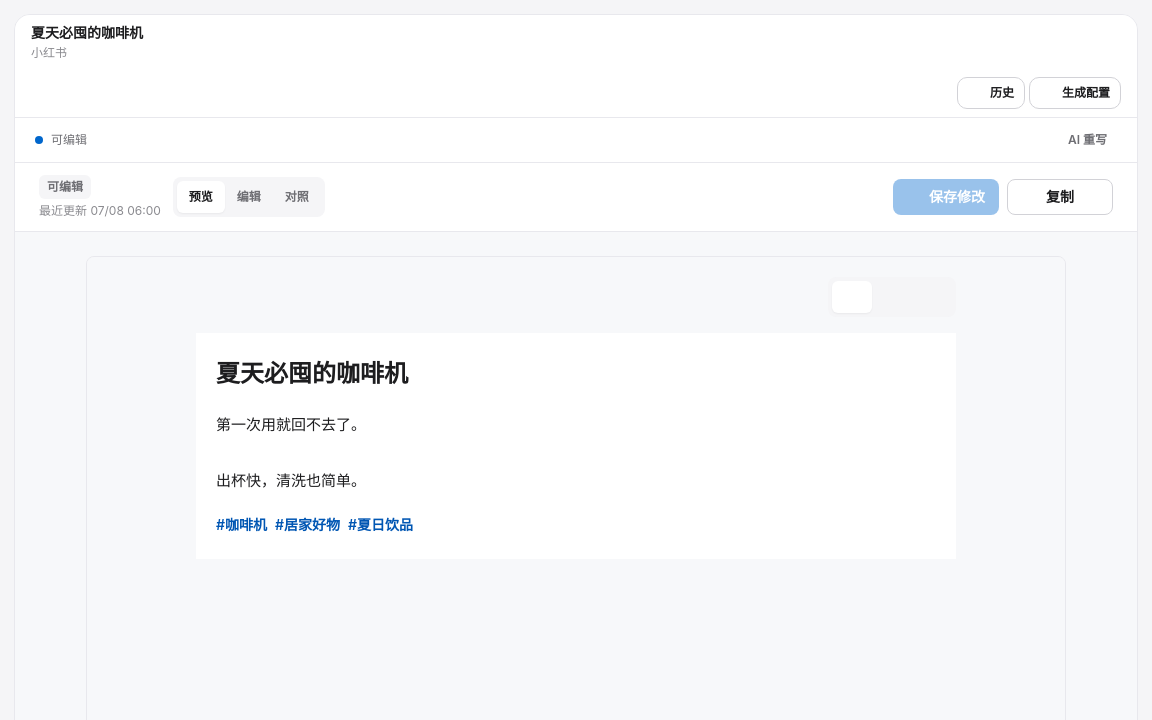
Scenario: 完成态按平台给不同的入口 › 小红书换成文案与标签那一套，摘要与正文入口一个都不给
Expected: the text "第一次用就回不去了。 出杯快，清洗也简单。" is shown, [216,415,366,490]
Expected: the text "#咖啡机" is shown, [216,515,267,535]
Click the button "复制" at x=1060, y=197, box [1007,179,1113,215]
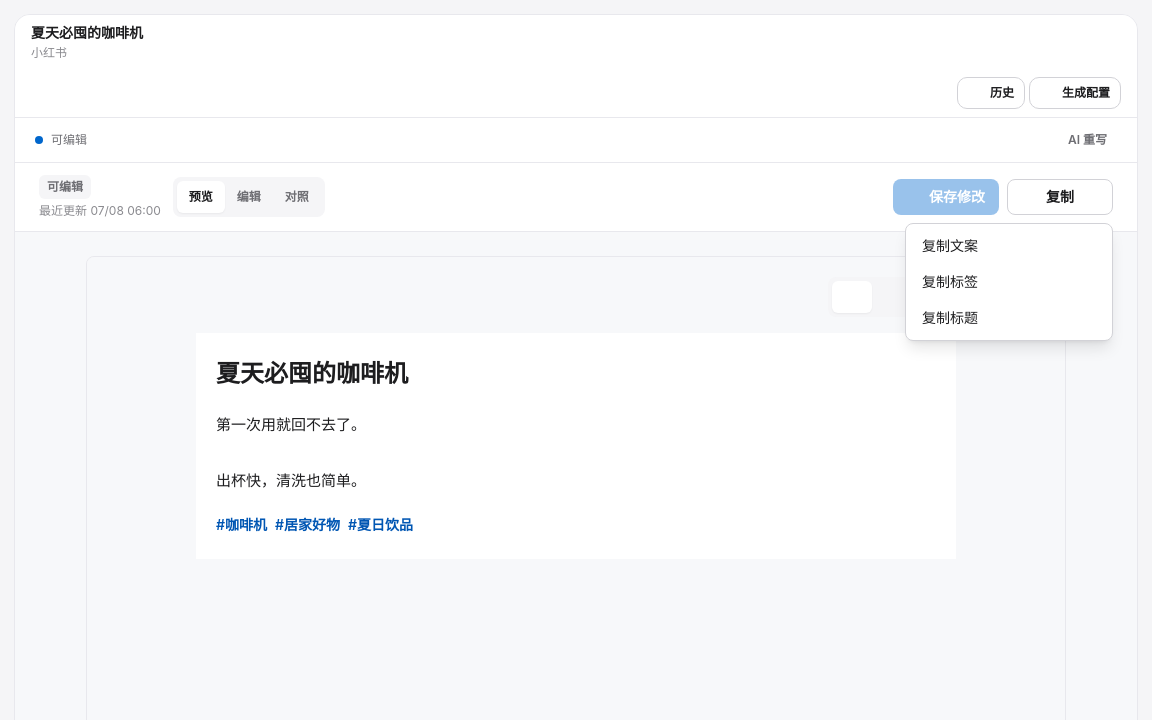
Expected: the button "复制文案" is shown, [910,228,1108,264]
Expected: the button "复制标签" is shown, [910,264,1108,300]
